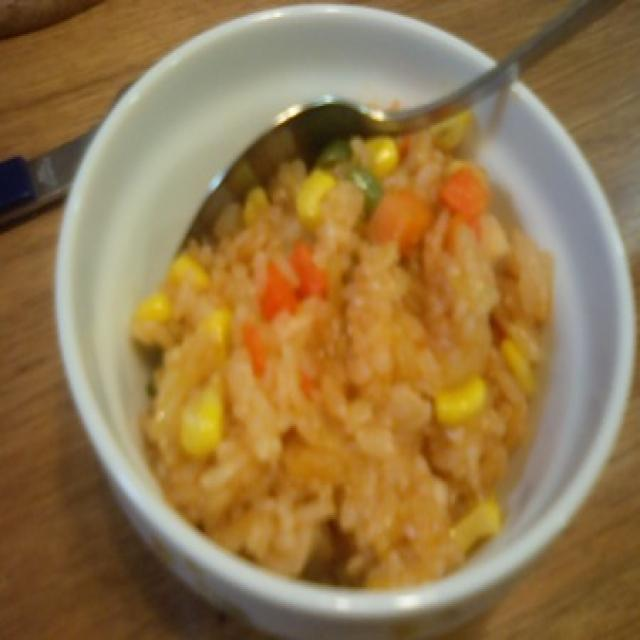Rice: (142, 123, 548, 574)
